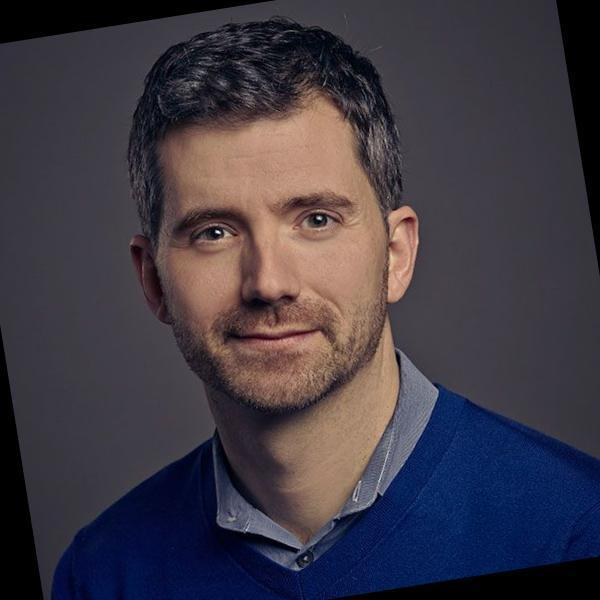Sober: (158, 112, 379, 399)
